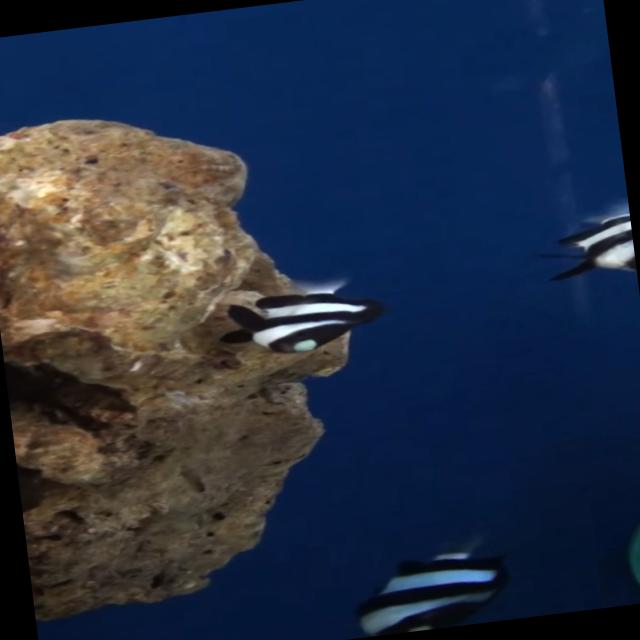ThreeStripedDamselfish: (224, 278, 384, 354)
